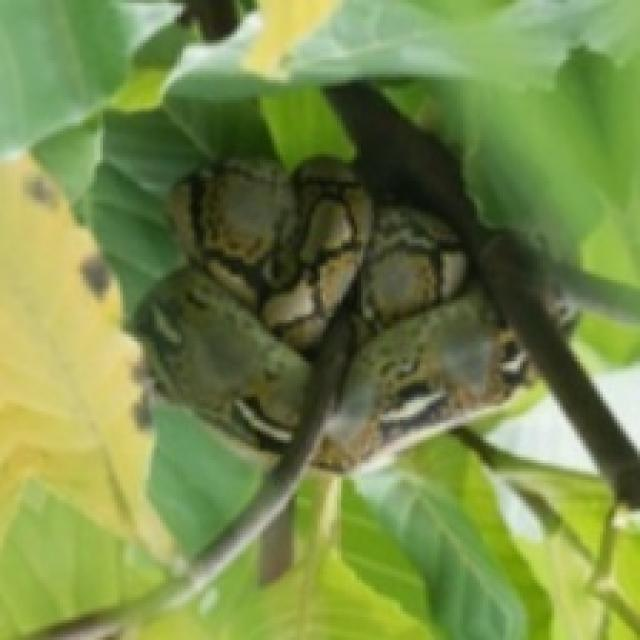reticulated python: (131, 157, 526, 466)
